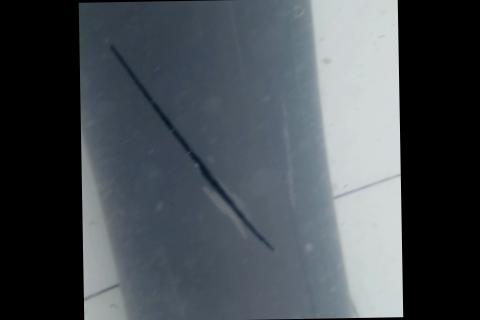keretakan: (106, 36, 276, 253)
